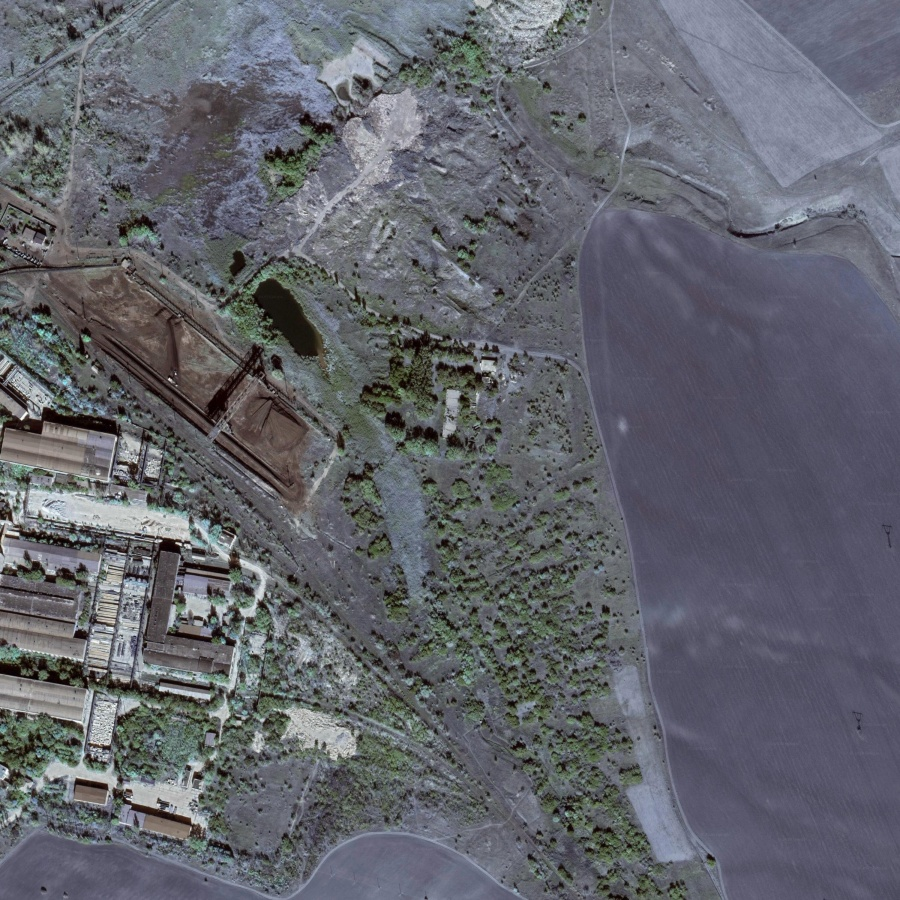PowerPlant: (24, 248, 314, 501)
